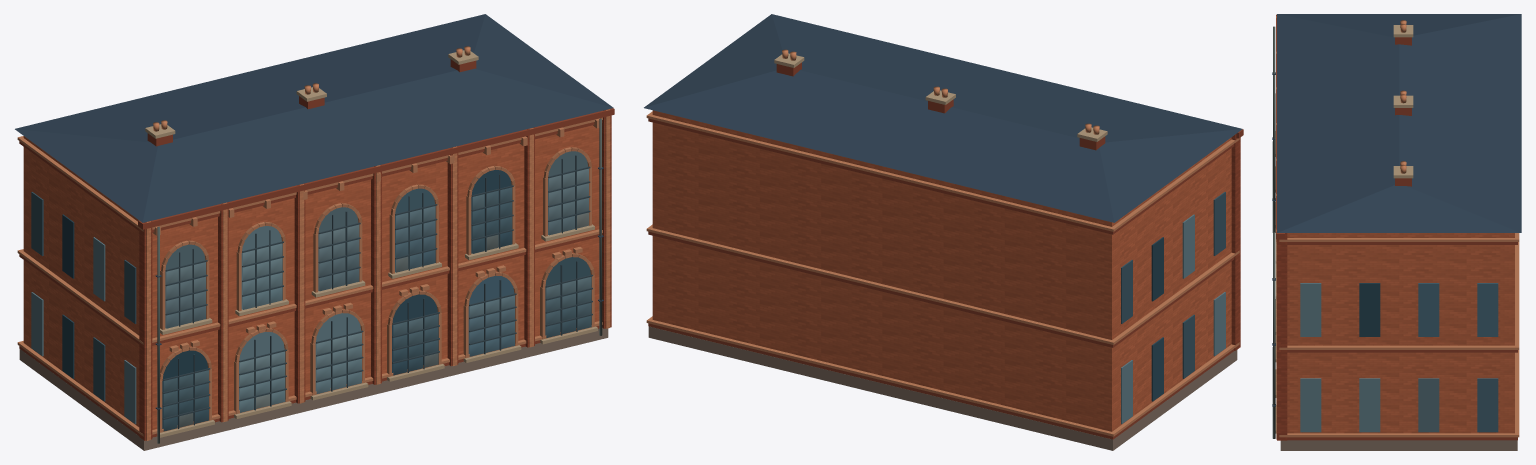
The model's file is brick-mill-wing.glb.
The picture shows the model from 3 angles, left to right: view 1: azimuth 30°, elevation 25°; view 2: azimuth 150°, elevation 25°; view 3: azimuth 270°, elevation 25°; orthographic projection. The views are drawn at different scales.
Visible parts, largest first — view 1: brick-mill-wing; view 2: brick-mill-wing; view 3: brick-mill-wing.
Part boxes in pixels (x1,y1,x2,y2): brick-mill-wing: (15, 14, 614, 450); brick-mill-wing: (644, 14, 1243, 450); brick-mill-wing: (1272, 14, 1521, 450).
Bounding box in the file's own units: 24.65 × 13.06 × 11.84.
Materials: 2 (1 with a texture image).
